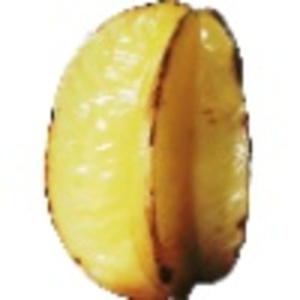carambola: (42, 1, 254, 300)
